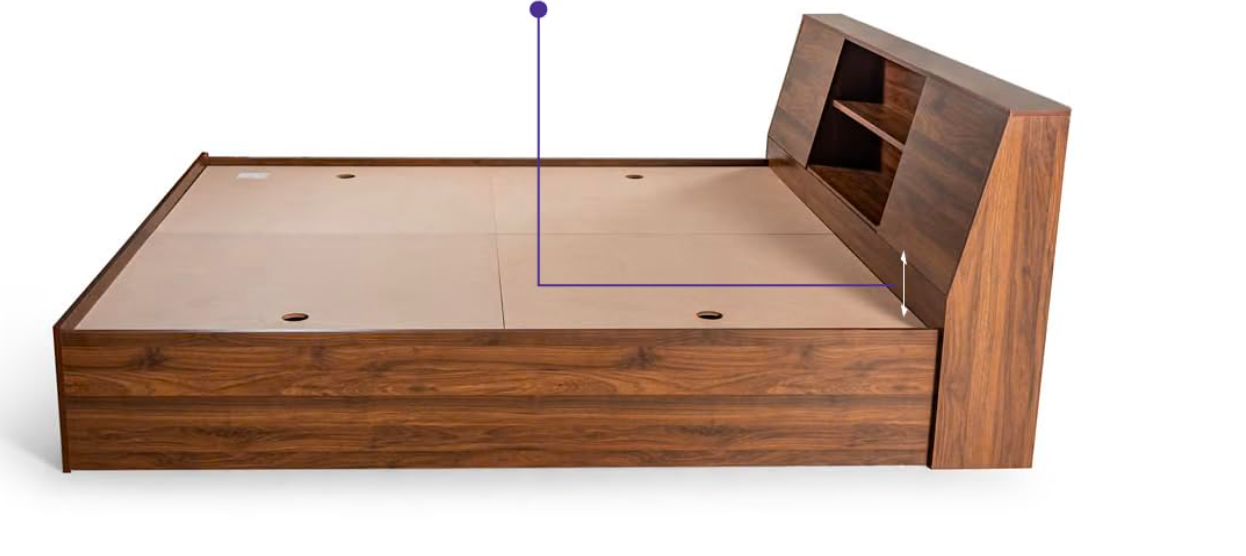cot: (49, 3, 1074, 476)
